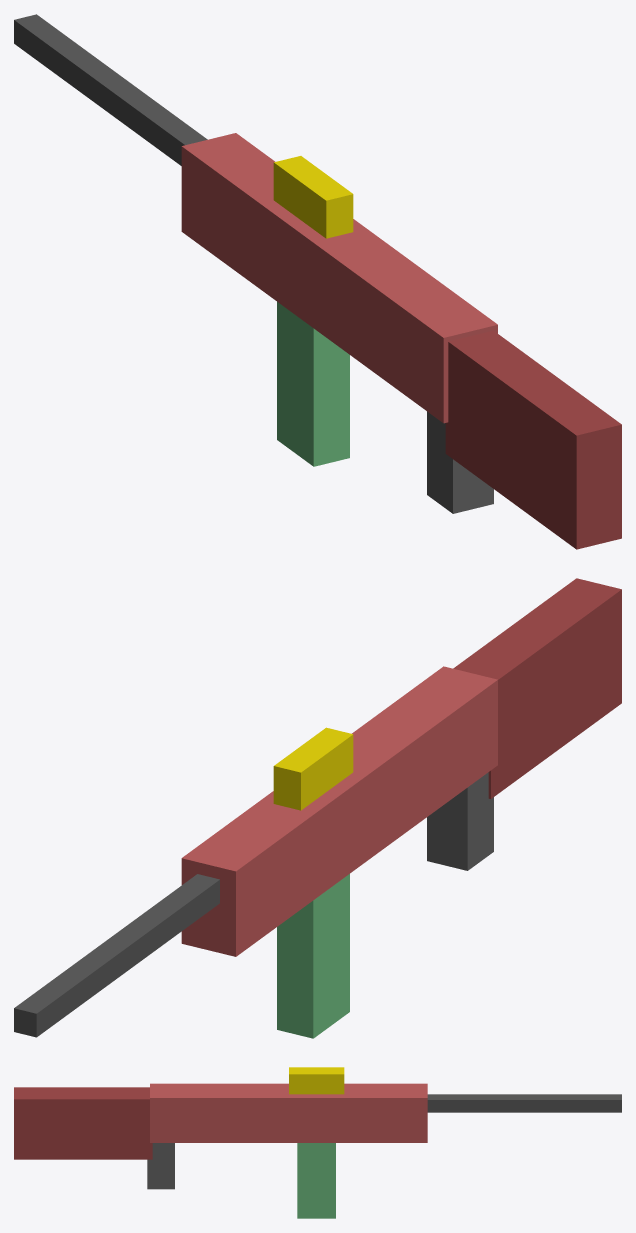
The model's file is rifle.glb.
3 renders of one model, top to bottom at view 1: azimuth 30°, elevation 25°; view 2: azimuth 150°, elevation 25°; view 3: azimuth 270°, elevation 25°, orthographic. The views are drawn at different scales.
Size of the model in its own units: 0.06 by 0.285 by 1.1.
